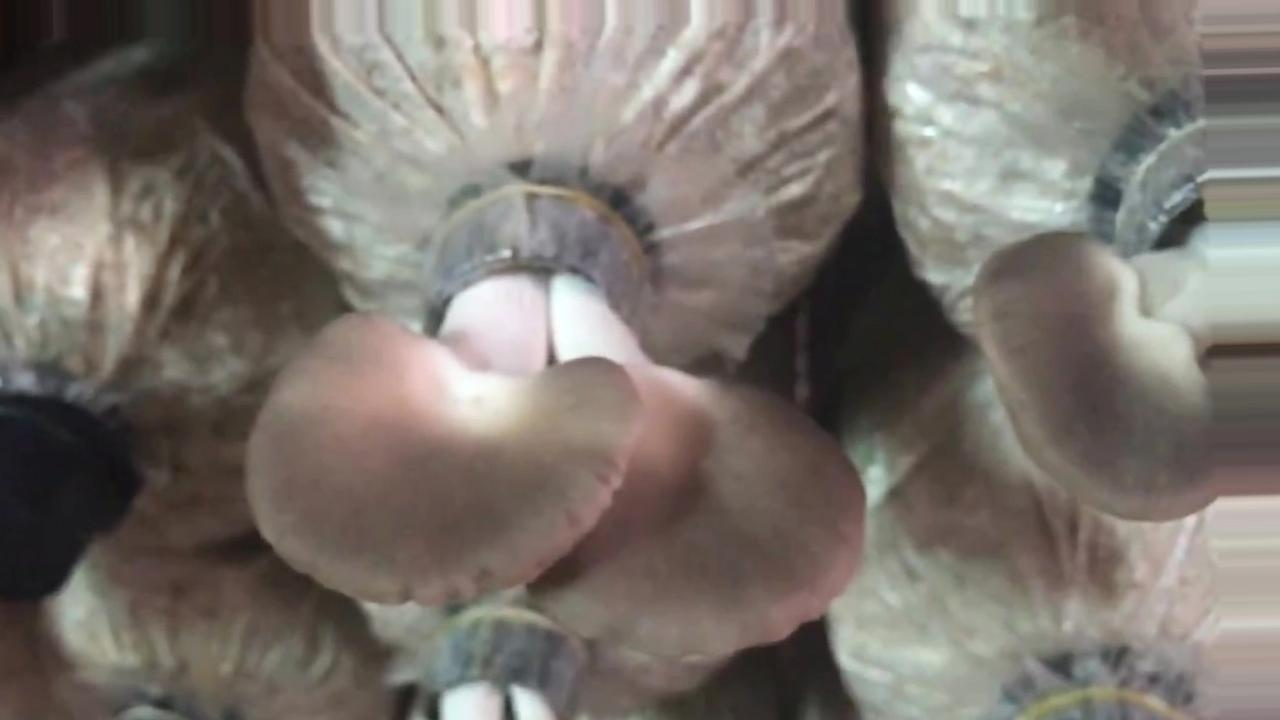nam: (241, 177, 867, 673), (973, 145, 1211, 532)
